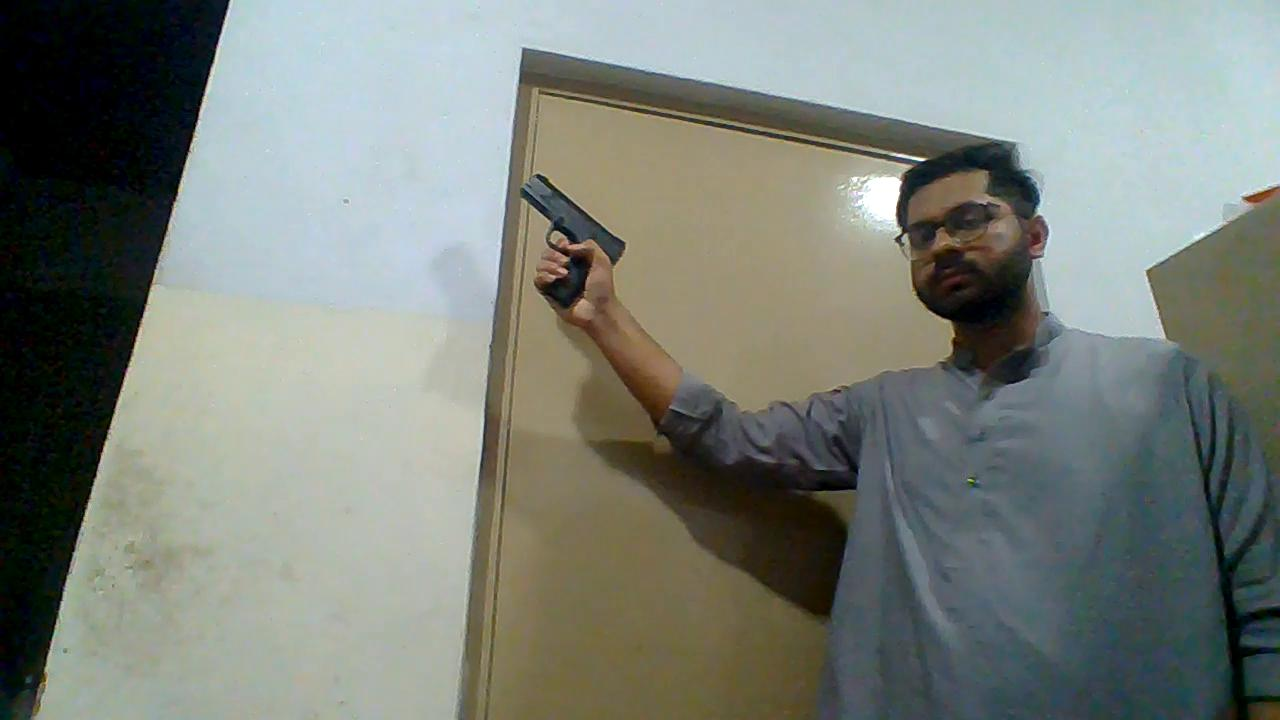criminal: (522, 139, 1280, 720)
weapon: (522, 173, 627, 309)
